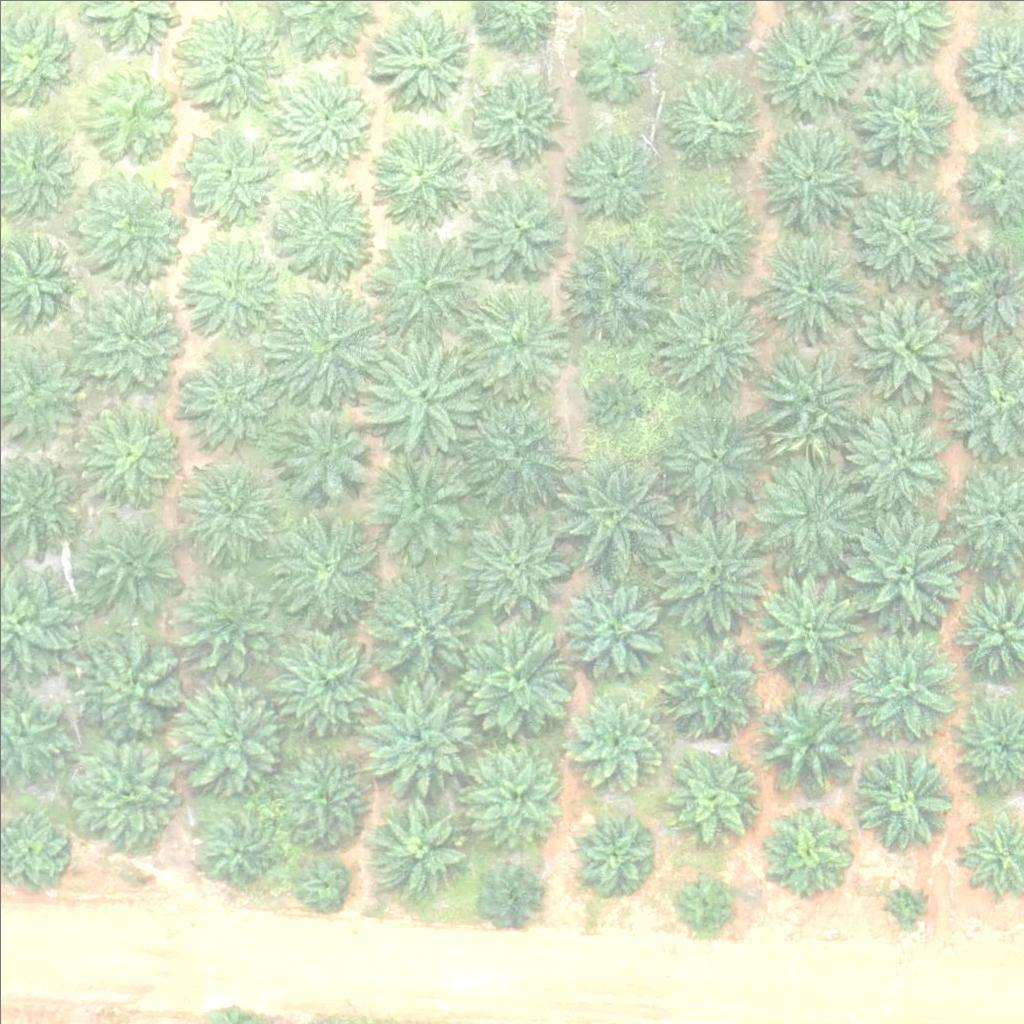Kelapa_Sawit: (843, 504, 968, 630), (750, 447, 875, 573), (654, 505, 779, 631), (549, 446, 674, 572), (448, 615, 573, 741), (452, 386, 577, 512), (365, 566, 490, 692), (355, 335, 480, 461), (260, 504, 385, 630), (265, 279, 390, 405), (60, 731, 185, 857), (72, 620, 197, 746), (67, 273, 192, 399), (359, 221, 484, 347), (264, 613, 389, 738), (752, 568, 865, 682), (652, 627, 765, 741), (553, 232, 666, 346), (660, 401, 773, 514), (655, 284, 768, 397), (363, 679, 476, 792), (362, 447, 475, 560), (267, 391, 380, 504), (168, 337, 281, 450), (76, 162, 189, 275), (180, 229, 293, 342), (747, 119, 860, 232), (750, 6, 863, 119), (456, 283, 568, 397), (847, 634, 959, 747), (844, 398, 956, 511), (754, 349, 866, 462), (553, 567, 665, 680), (462, 510, 574, 623), (175, 676, 287, 789), (174, 564, 286, 677), (657, 170, 769, 283), (752, 236, 864, 349), (856, 292, 956, 393), (569, 686, 669, 787), (465, 745, 565, 846), (365, 797, 465, 898), (276, 743, 376, 844), (77, 509, 177, 610), (76, 408, 176, 509), (80, 62, 180, 163), (178, 121, 278, 222), (180, 10, 280, 111), (277, 177, 377, 278), (663, 68, 763, 169), (852, 178, 952, 279), (858, 67, 958, 168), (852, 752, 952, 852), (757, 694, 857, 794), (275, 69, 375, 169), (372, 120, 472, 220), (372, 10, 472, 110), (472, 176, 572, 276), (465, 63, 565, 163), (564, 121, 664, 221), (666, 754, 754, 842), (567, 805, 655, 893), (186, 466, 274, 554), (761, 800, 848, 888), (578, 30, 653, 106), (198, 810, 273, 885), (581, 363, 644, 426), (480, 860, 543, 923), (671, 867, 733, 930), (298, 856, 348, 906), (884, 884, 921, 922)
